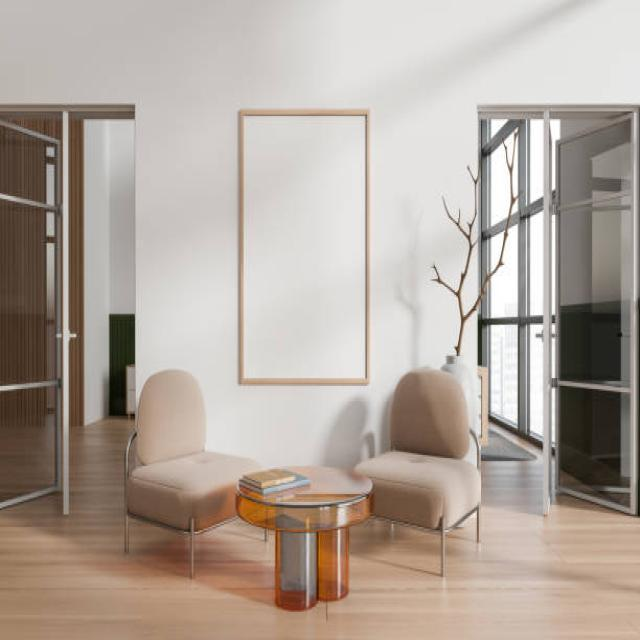table: (233, 463, 374, 612)
